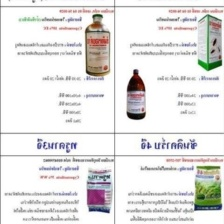carton: (195, 12, 223, 72)
insecticide: (83, 12, 112, 78), (192, 163, 224, 215), (83, 164, 114, 217), (124, 65, 150, 120)
